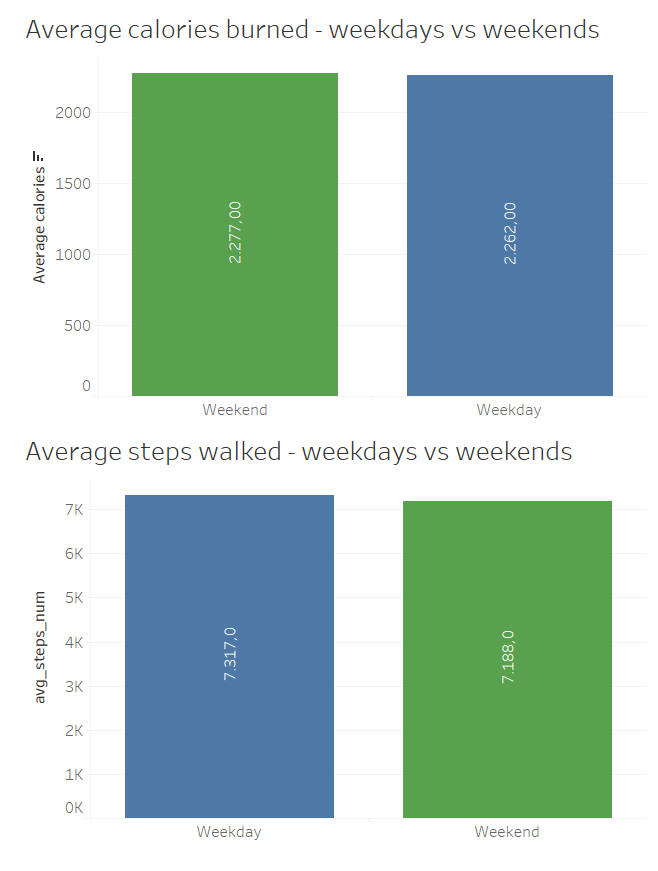

Layout of this report page (visuals, bound fields, positions):
{"tool":"tableau","page":{"name":"Dashboard 3","canvas":[650,860],"ordinal":1},"visuals":[{"type":"worksheet","title":"Cal Week vs Weekend","mark":"Automatic","rows":["Calculation_1175158031998656517"],"cols":["day_type"],"box":[8,8.6,634,421.4]},{"type":"worksheet","title":"Steps Week vs Wkend","mark":"Automatic","rows":["Calculation_1175158031998869510"],"cols":["day_type"],"box":[8,430,634,421.4]}]}

Visuals, with their boxes in screenshot pixels (x1, y1, x2, y2), scaled from the page's 650x860 canvas onto the 658x871 screenshot:
"Cal Week vs Weekend" worksheet: BBox(8, 9, 650, 436)
"Steps Week vs Wkend" worksheet: BBox(8, 436, 650, 862)
